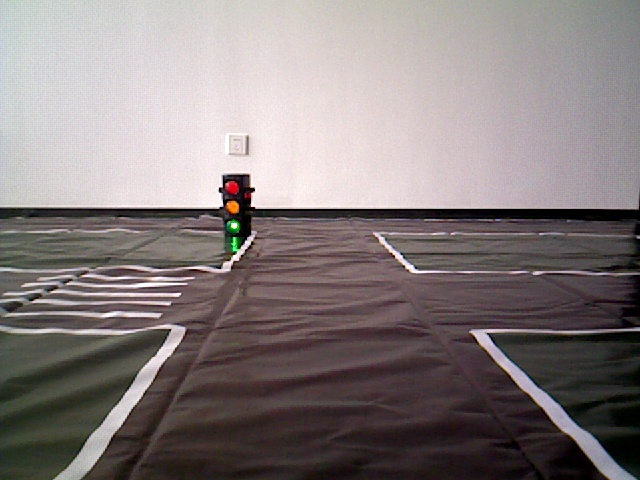green: (224, 176, 247, 234)
